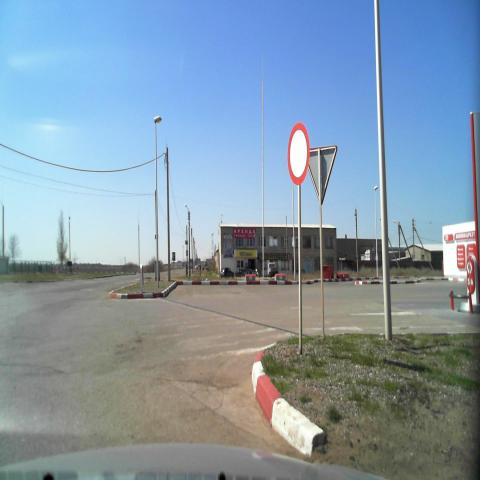3_2: (286, 121, 310, 188)
